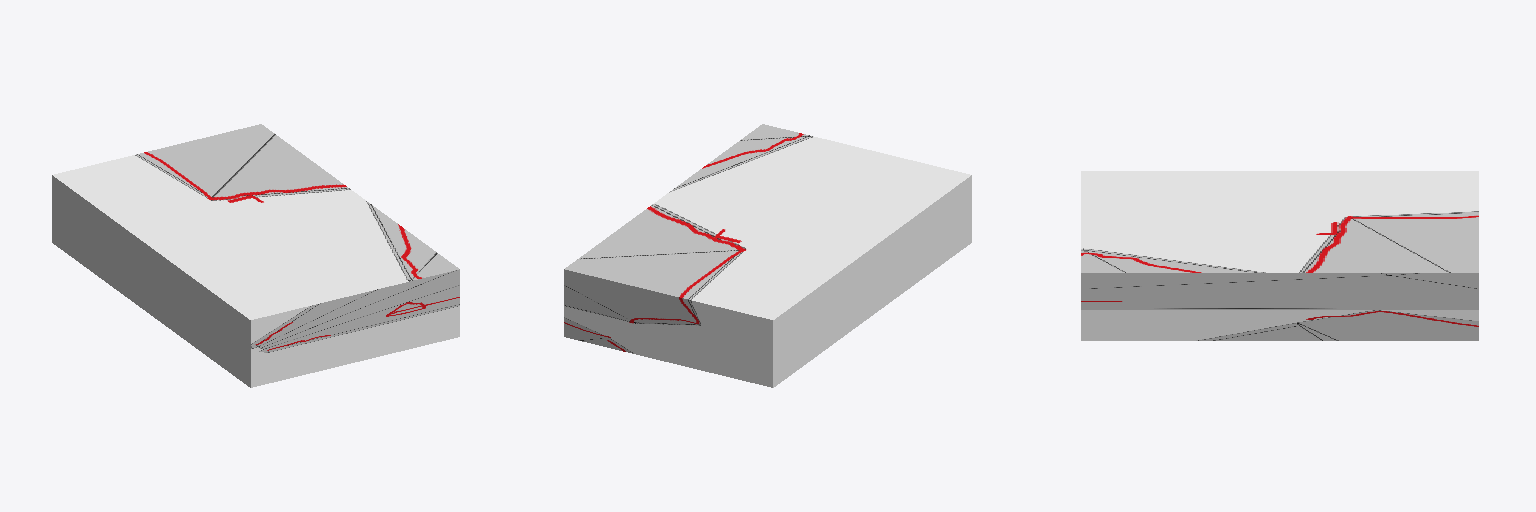
3 renders of one model, left to right at view 1: azimuth 30°, elevation 25°; view 2: azimuth 150°, elevation 25°; view 3: azimuth 270°, elevation 25°, orthographic.
Parts seen in each view (by area): view 1: Plane_Cube.003; view 2: Plane_Cube.003; view 3: Plane_Cube.003.
Part boxes in pixels (left/top/right/bottom): Plane_Cube.003: left=52, top=124, right=459, bottom=387; Plane_Cube.003: left=564, top=124, right=971, bottom=387; Plane_Cube.003: left=1081, top=171, right=1478, bottom=340.
Bounding box in the file's own units: 7.22 × 2.23 × 11.85.
1 materials, 1 textured.